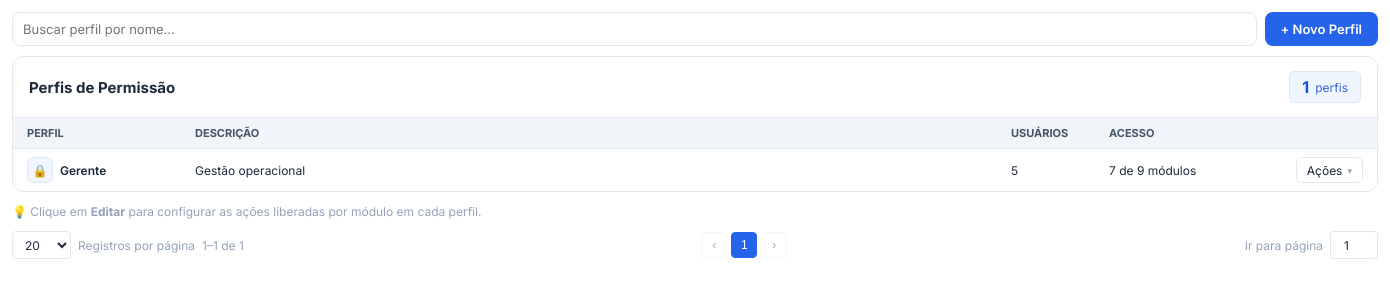
it: PermissionProfilesListView › shows the backend error message when deleting a profile fails
Click the element with test id "btn-acoes": (1329, 170) [1296, 157, 1363, 183]
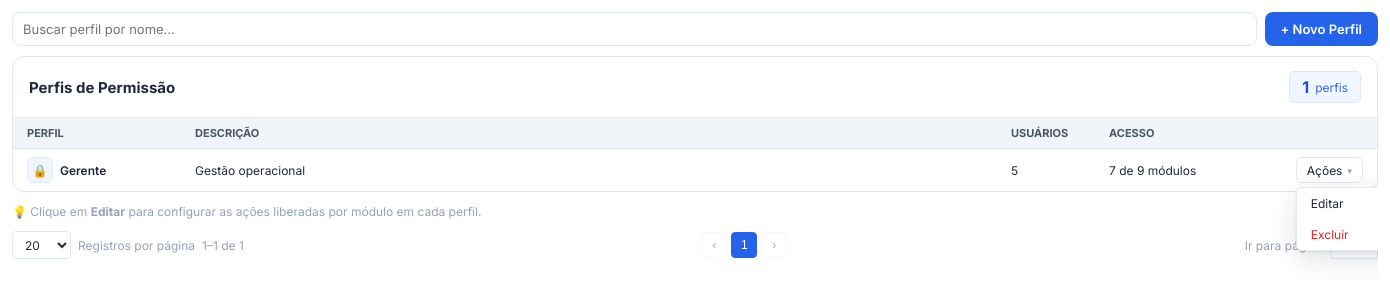
Click the text with test id "acao-excluir": (1330, 234) [1311, 227, 1349, 242]
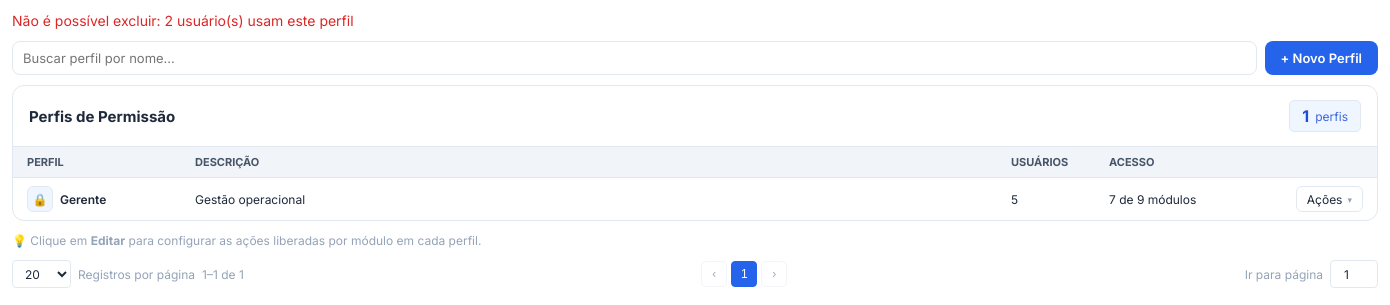
Now the text "Não é possível excluir: 2 usuário(s) usam este perfil" is shown, box [12, 12, 354, 29]
